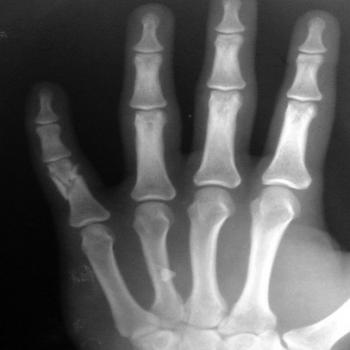Fracture: (44, 162, 89, 200)
